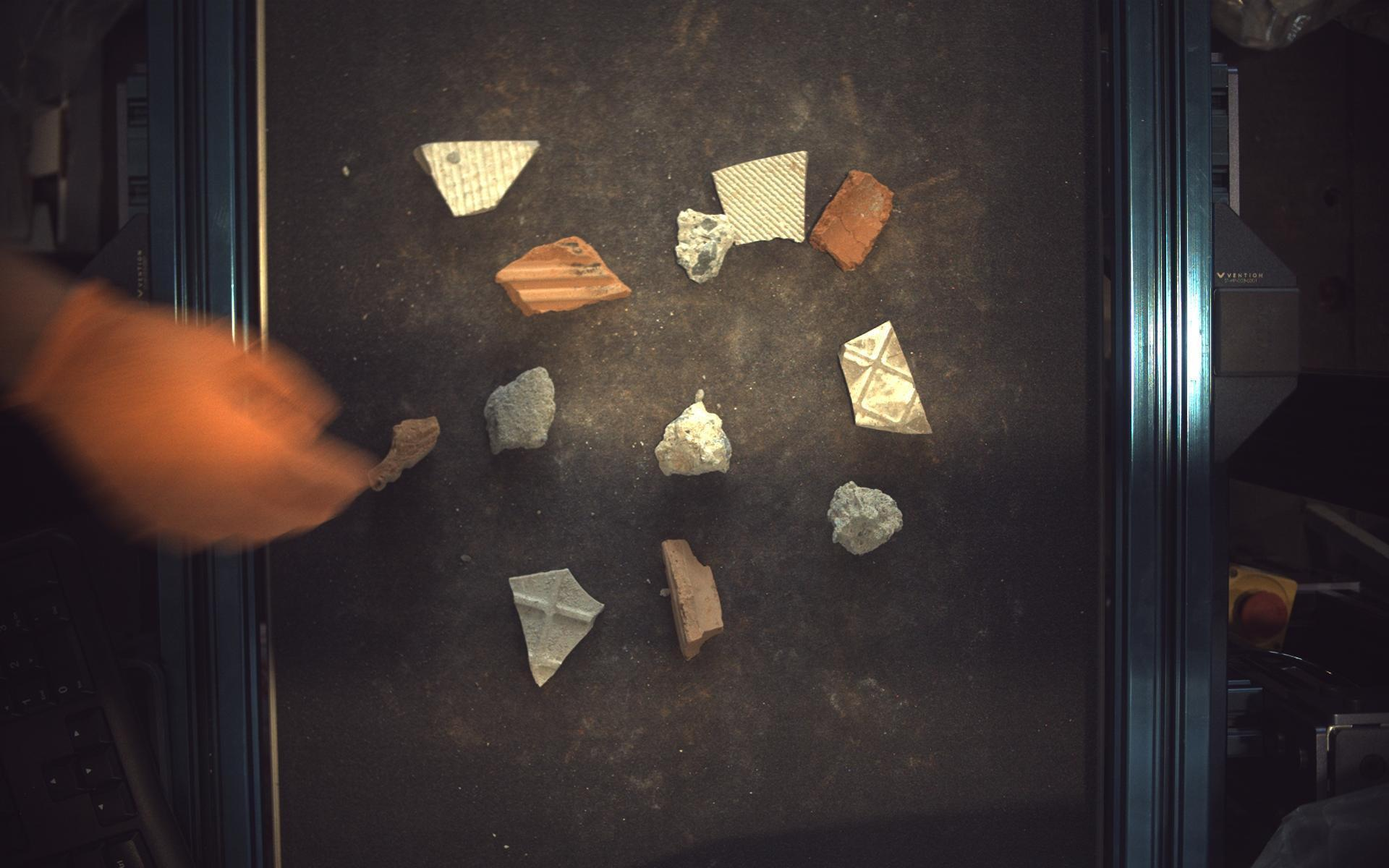brick: (496, 235, 632, 316), (811, 169, 895, 271), (663, 540, 725, 660), (368, 417, 440, 492)
concrete: (655, 389, 733, 476), (484, 367, 556, 454), (829, 482, 905, 556), (676, 208, 738, 283)
tile: (509, 569, 605, 687), (841, 321, 934, 434), (413, 139, 540, 216), (714, 150, 809, 244)
